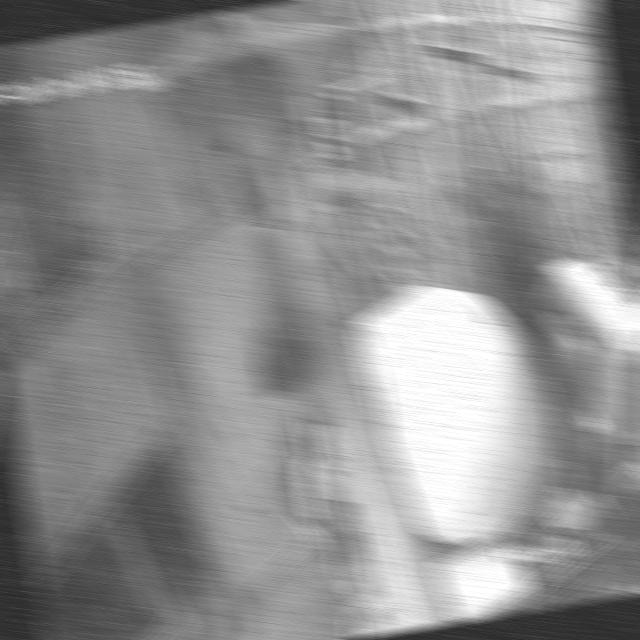cement_mixer_truck: (244, 245, 640, 640)
swing_chute: (215, 122, 346, 341)
